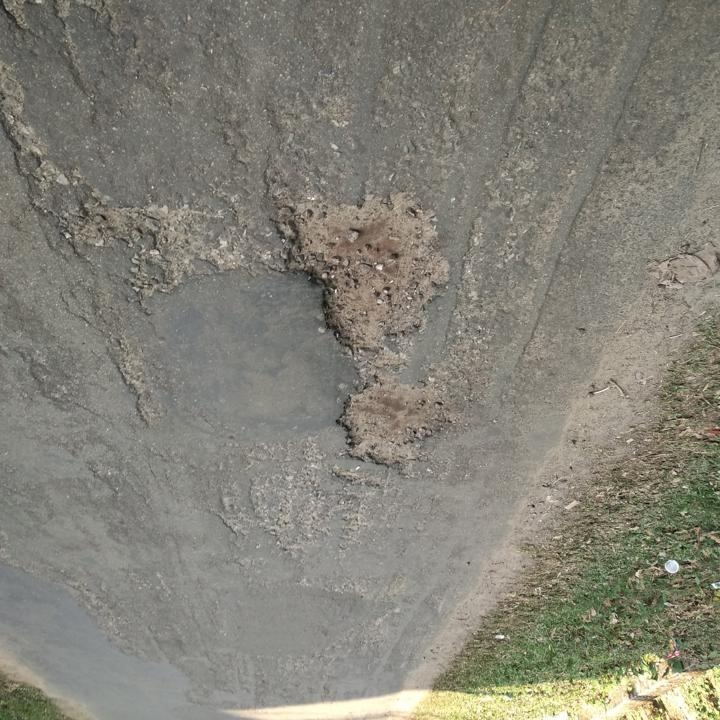pothole: (280, 191, 453, 358), (58, 197, 227, 292), (334, 383, 449, 477)
